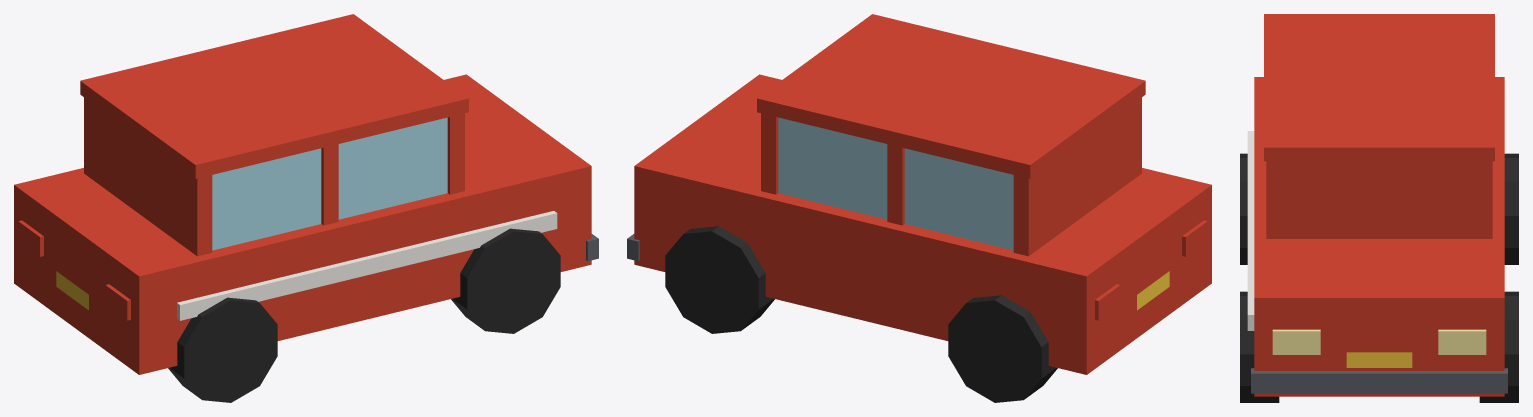
The model's file is car_red.glb.
The picture shows the model from 3 angles, left to right: view 1: azimuth 30°, elevation 25°; view 2: azimuth 150°, elevation 25°; view 3: azimuth 270°, elevation 25°; orthographic projection.
Visible parts, largest first — view 1: car_red; view 2: car_red; view 3: car_red.
Boxes of the visible parts, x1,y1,x2,y2 form: car_red: (14,14,598,402); car_red: (627,14,1211,402); car_red: (1240,14,1518,402).
Size of the model in its own units: 2.45 by 1.19 by 1.28.
1 material, 1 textured.
